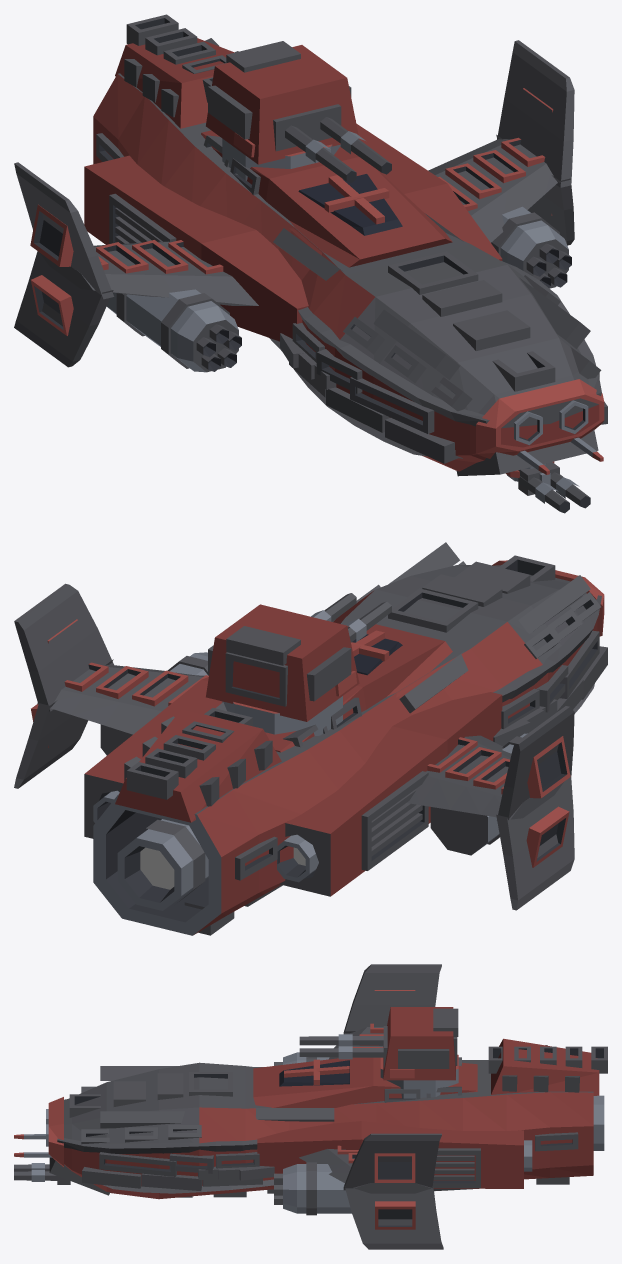
The model's file is gunship.glb.
3 renders of one model, top to bottom at view 1: azimuth 30°, elevation 25°; view 2: azimuth 150°, elevation 25°; view 3: azimuth 270°, elevation 25°, orthographic. The views are drawn at different scales.
Parts seen in each view (by area): view 1: empire-gunship, turret-dorsal, missile-pods, guns-dorsal, turret-chin; view 2: empire-gunship, turret-dorsal, engine-nozzles, missile-pods, guns-dorsal; view 3: empire-gunship, turret-dorsal, missile-pods, guns-dorsal, engine-nozzles, turret-chin.
Part boxes in pixels (x1,y1,x2,y2): empire-gunship: (14, 14, 607, 476); turret-dorsal: (206, 41, 359, 180); missile-pods: (106, 206, 571, 372); guns-dorsal: (273, 104, 391, 182); turret-chin: (505, 461, 590, 513); empire-gunship: (14, 542, 607, 935); turret-dorsal: (206, 604, 359, 735); engine-nozzles: (93, 790, 318, 910); missile-pods: (100, 652, 527, 855); guns-dorsal: (311, 593, 391, 642); empire-gunship: (14, 964, 607, 1249); turret-dorsal: (380, 1007, 458, 1098); missile-pods: (274, 1052, 351, 1215); guns-dorsal: (299, 1026, 387, 1067); engine-nozzles: (524, 1095, 604, 1171); turret-chin: (14, 1163, 70, 1184).
Size of the model in its own units: 9.88 by 4.42 by 14.35.
